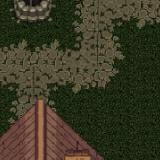Hide: (0, 0, 80, 48)
